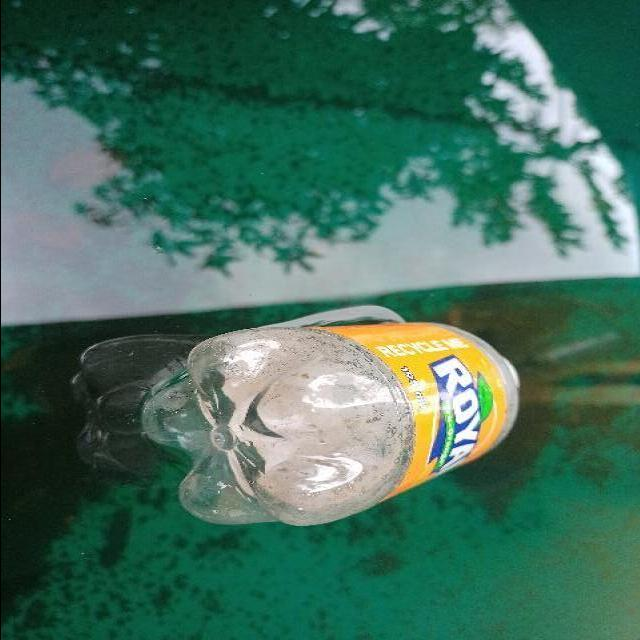Bottle: (134, 311, 532, 533)
